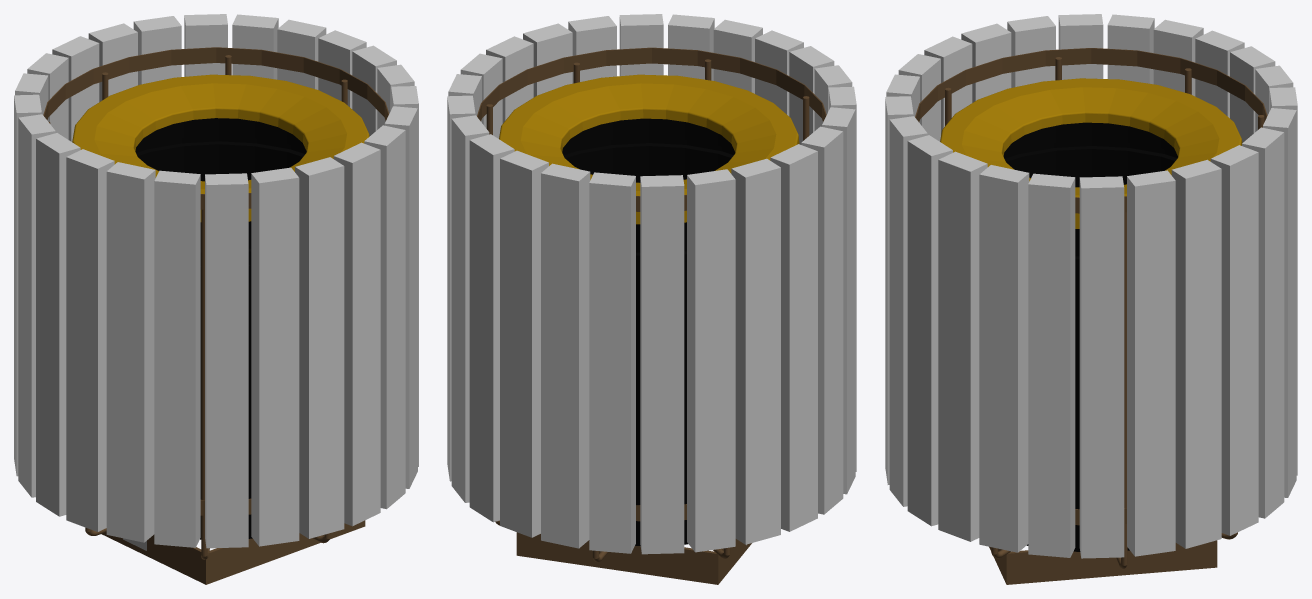
3 renders of one model, left to right at view 1: azimuth 30°, elevation 25°; view 2: azimuth 150°, elevation 25°; view 3: azimuth 270°, elevation 25°, orthographic.
Parts seen in each view (by area): view 1: mesh133.001_mesh133-geometry, mesh135.001_mesh135-geometry, mesh131.001_mesh131-geometry, mesh136.001_mesh136-geometry, mesh134.001_mesh134-geometry, mesh130.001_mesh130-geometry, mesh94.001_mesh94-geometry, mesh137.001_mesh137-geometry, mesh132.001_mesh132-geometry, mesh138.001_mesh138-geometry, mesh1.001_mesh1-geometry, mesh109.001_mesh109-geometry (+18 smaller); view 2: mesh123.001_mesh123-geometry, mesh126.001_mesh126-geometry, mesh125.001_mesh125-geometry, mesh128.001_mesh128-geometry, mesh124.001_mesh124-geometry, mesh94.001_mesh94-geometry, mesh119.001_mesh119-geometry, mesh109.001_mesh109-geometry, mesh127.001_mesh127-geometry, mesh1.001_mesh1-geometry, mesh132.001_mesh132-geometry, mesh129.001_mesh129-geometry (+16 smaller); view 3: mesh140.001_mesh140-geometry, mesh111.001_mesh111-geometry, mesh121.001_mesh121-geometry, mesh122.001_mesh122-geometry, mesh120.001_mesh120-geometry, mesh139.001_mesh139-geometry, mesh94.001_mesh94-geometry, mesh129.001_mesh129-geometry, mesh138.001_mesh138-geometry, mesh127.001_mesh127-geometry, mesh1.001_mesh1-geometry, mesh137.001_mesh137-geometry (+17 smaller).
Boxes of the visible parts, <box> form: mesh133.001_mesh133-geometry: <box>106,162,155,542</box>; mesh135.001_mesh135-geometry: <box>251,167,299,546</box>; mesh131.001_mesh131-geometry: <box>154,170,200,547</box>; mesh136.001_mesh136-geometry: <box>295,157,344,538</box>; mesh134.001_mesh134-geometry: <box>205,173,248,548</box>; mesh130.001_mesh130-geometry: <box>66,149,114,531</box>; mesh94.001_mesh94-geometry: <box>72,74,369,221</box>; mesh137.001_mesh137-geometry: <box>333,142,380,526</box>; mesh132.001_mesh132-geometry: <box>36,133,80,516</box>; mesh138.001_mesh138-geometry: <box>364,125,405,509</box>; mesh1.001_mesh1-geometry: <box>135,118,306,539</box>; mesh109.001_mesh109-geometry: <box>18,114,55,497</box>; mesh123.001_mesh123-geometry: <box>541,163,590,548</box>; mesh126.001_mesh126-geometry: <box>687,169,735,552</box>; mesh125.001_mesh125-geometry: <box>589,172,635,553</box>; mesh128.001_mesh128-geometry: <box>731,158,780,544</box>; mesh124.001_mesh124-geometry: <box>640,175,684,554</box>; mesh94.001_mesh94-geometry: <box>499,74,799,224</box>; mesh119.001_mesh119-geometry: <box>500,150,548,537</box>; mesh109.001_mesh109-geometry: <box>770,144,817,531</box>; mesh127.001_mesh127-geometry: <box>469,134,514,522</box>; mesh1.001_mesh1-geometry: <box>562,118,735,545</box>; mesh132.001_mesh132-geometry: <box>801,126,843,514</box>; mesh129.001_mesh129-geometry: <box>451,115,489,502</box>; mesh140.001_mesh140-geometry: <box>979,165,1029,552</box>; mesh111.001_mesh111-geometry: <box>1127,170,1175,556</box>; mesh121.001_mesh121-geometry: <box>1028,173,1075,557</box>; mesh122.001_mesh122-geometry: <box>1171,159,1221,548</box>; mesh120.001_mesh120-geometry: <box>1079,176,1124,558</box>; mesh139.001_mesh139-geometry: <box>938,151,987,541</box>; mesh94.001_mesh94-geometry: <box>940,78,1242,228</box>; mesh129.001_mesh129-geometry: <box>1210,145,1258,535</box>; mesh138.001_mesh138-geometry: <box>907,135,952,526</box>; mesh127.001_mesh127-geometry: <box>1242,127,1284,518</box>; mesh1.001_mesh1-geometry: <box>1003,122,1177,551</box>; mesh137.001_mesh137-geometry: <box>889,116,927,506</box>.
Size of the model in its own units: 0.5484 by 0.6314 by 0.5484.
